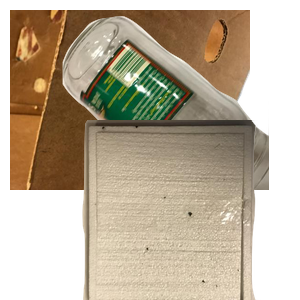cardboard: (10, 10, 250, 190)
glass: (60, 14, 300, 194)
plastic: (99, 120, 289, 300)
trash: (80, 120, 300, 300)
